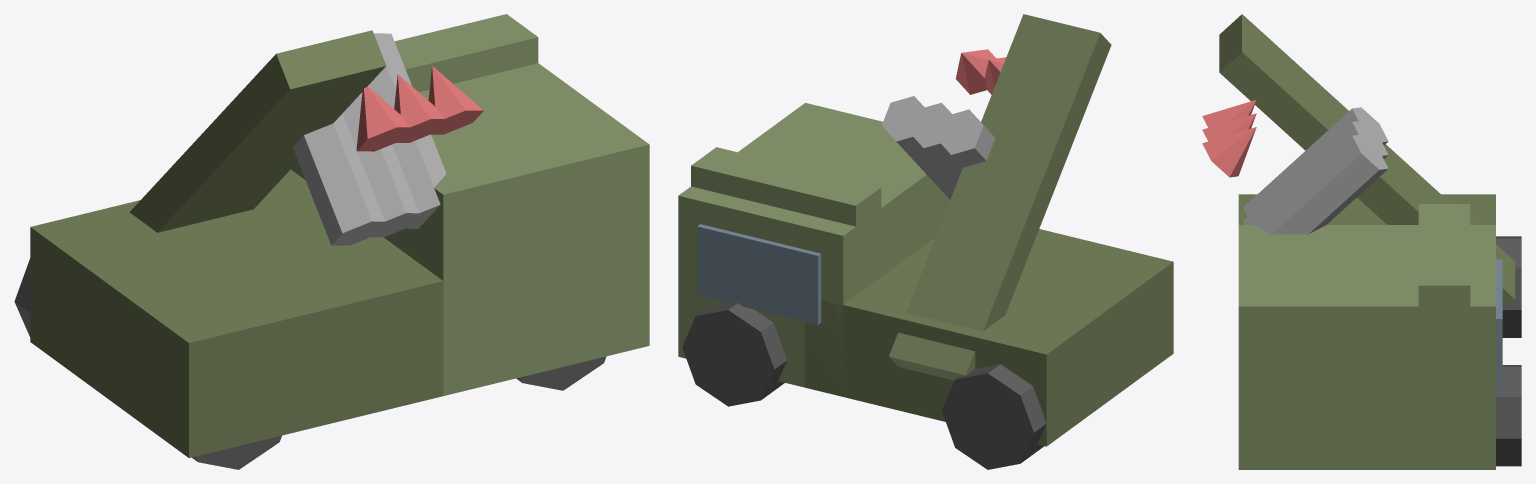
Rendered from unit_artillery.glb.
3 views of the same model, side by side, from view 1: azimuth 30°, elevation 25°; view 2: azimuth 150°, elevation 25°; view 3: azimuth 270°, elevation 25° (orthographic). The views are drawn at different scales.
Visible parts, largest first — view 1: unit_artillery; view 2: unit_artillery; view 3: unit_artillery.
Boxes of the visible parts, left/top/right/bottom form: unit_artillery: left=14, top=14, right=649, bottom=469; unit_artillery: left=678, top=14, right=1173, bottom=469; unit_artillery: left=1202, top=14, right=1521, bottom=469.
Bounding box in the file's own units: 0.335 × 0.2869 × 0.2483.
